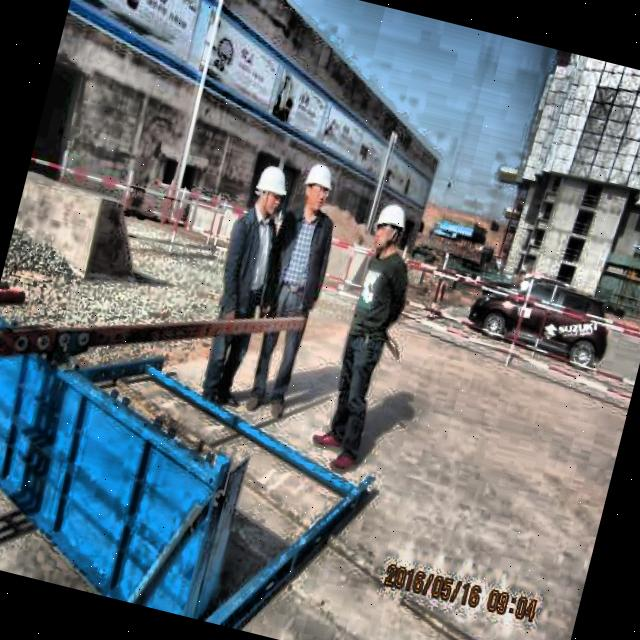helmet: (366, 193, 416, 259), (248, 160, 295, 224), (296, 158, 338, 213)
